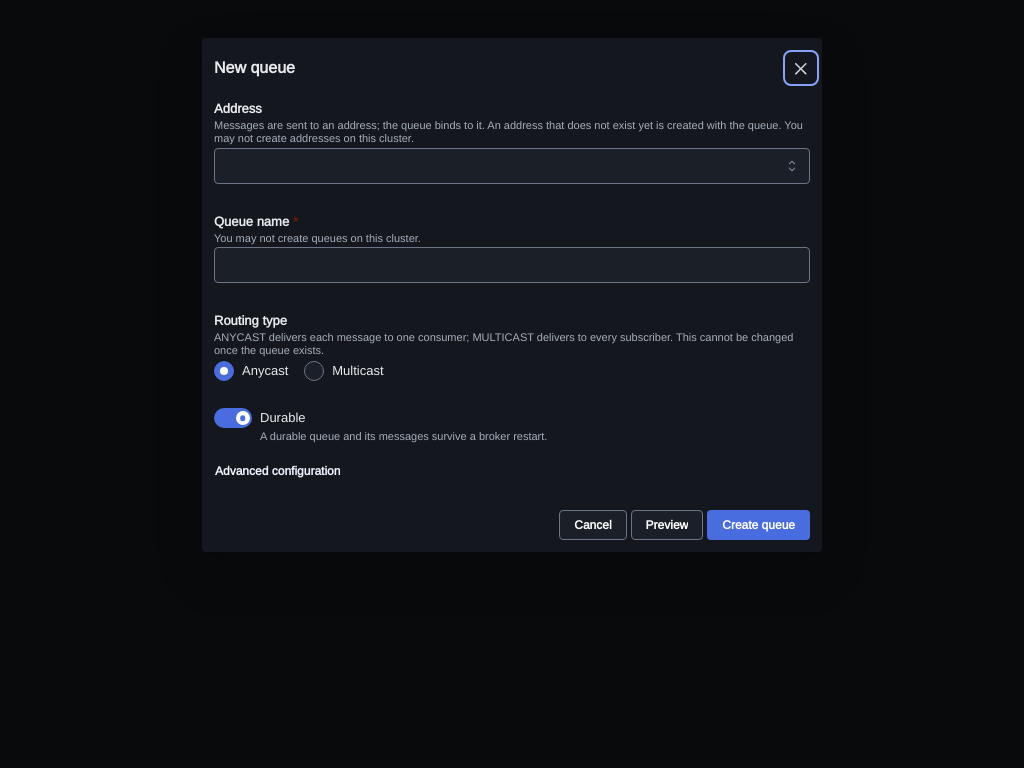
Test case: CreateQueueForm › keeps submit enabled and explains the problem on activation, never silently disabled
This screenshot has width=1024, height=768.
Click the button "Create queue": click(759, 525) [707,510,810,540]
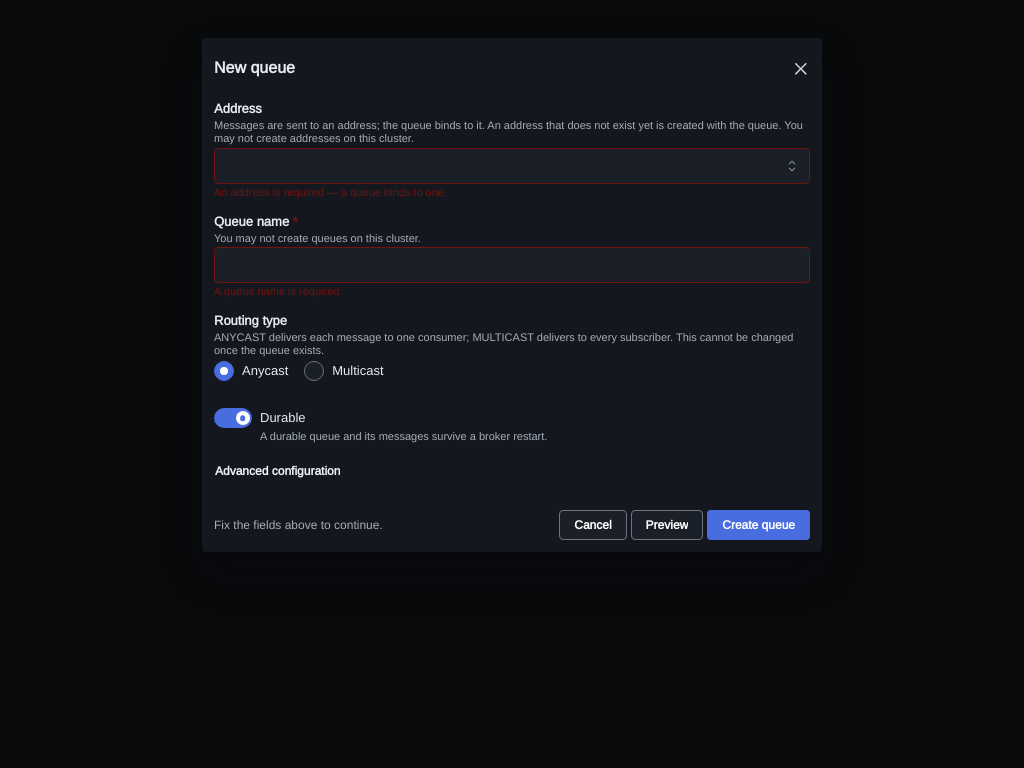
Check: the text "A queue name is required." is shown, box [214,284,342,298]
Check: the text "Fix the fields above to continue." is shown, box [214,516,383,533]
